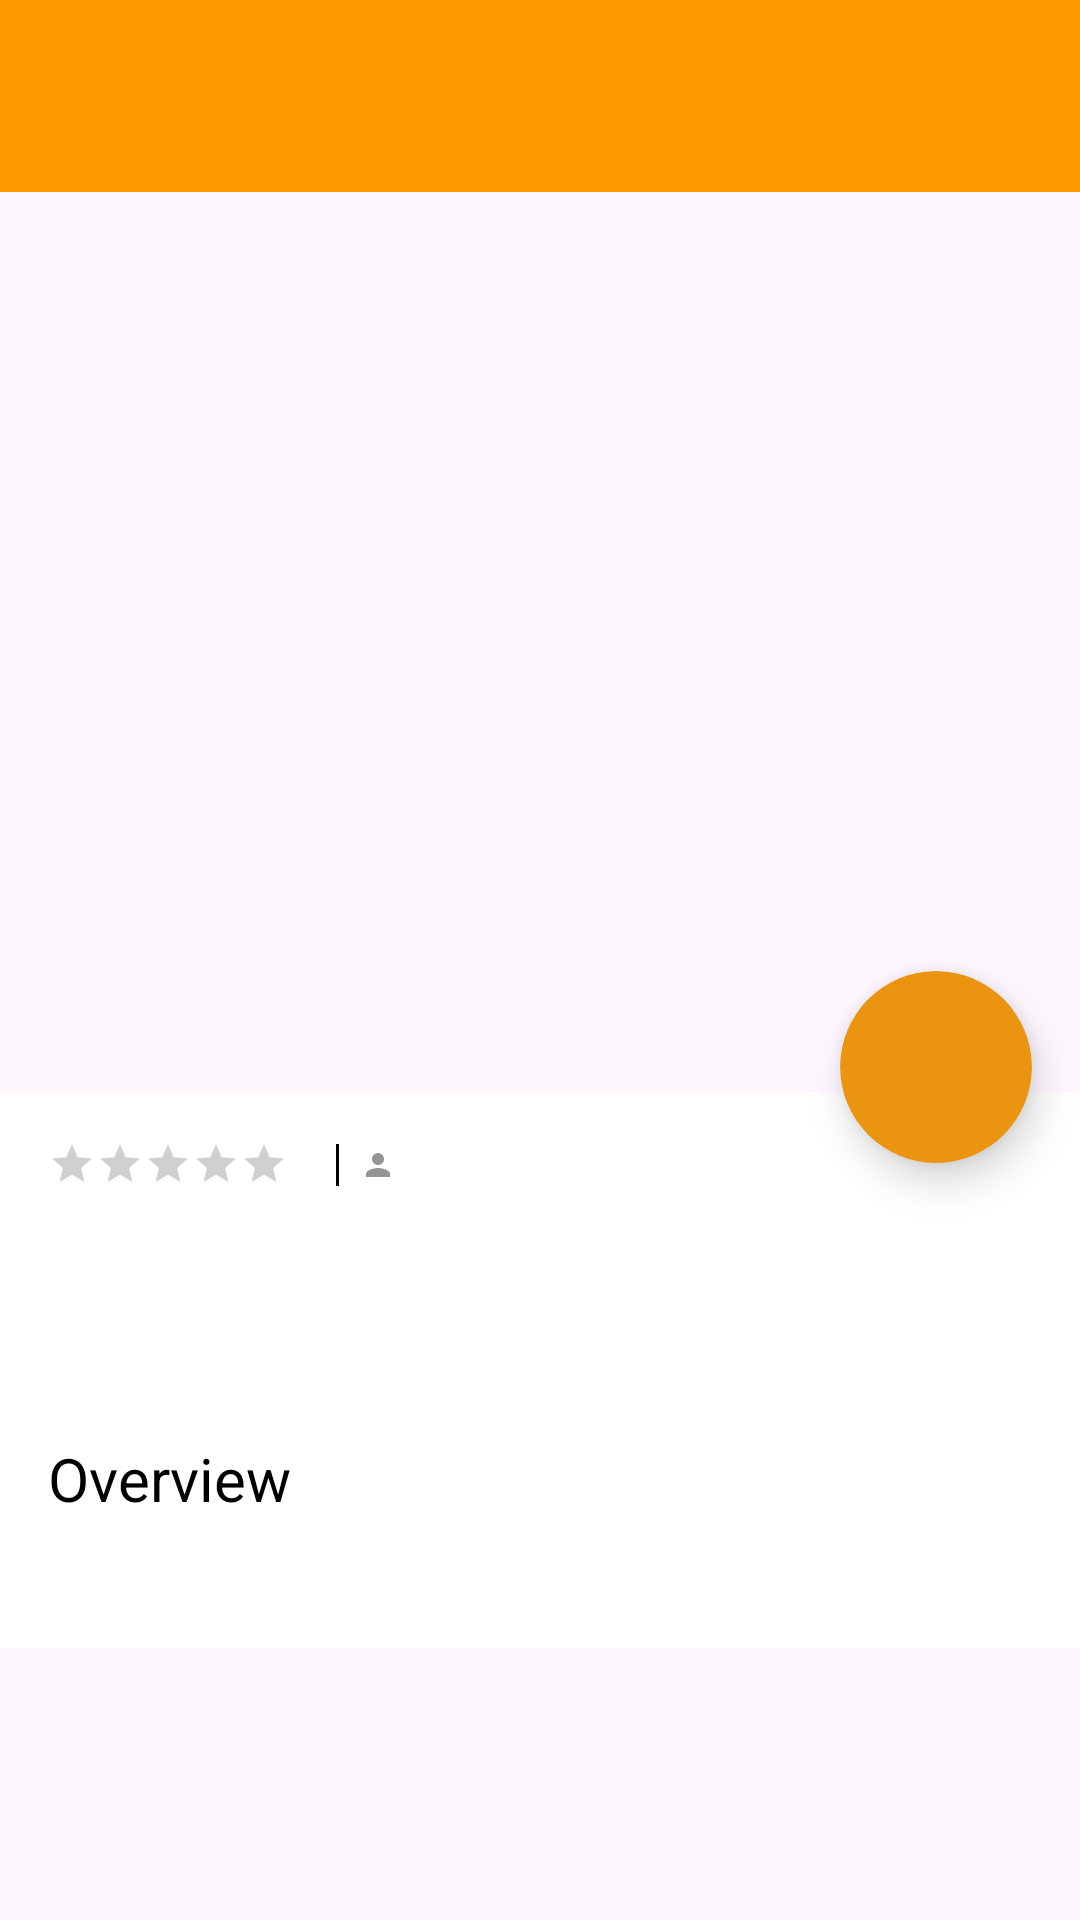

Icon click points for this 1080px x 1920px phone screenshot, format (x,y):
person: (378,1165)
